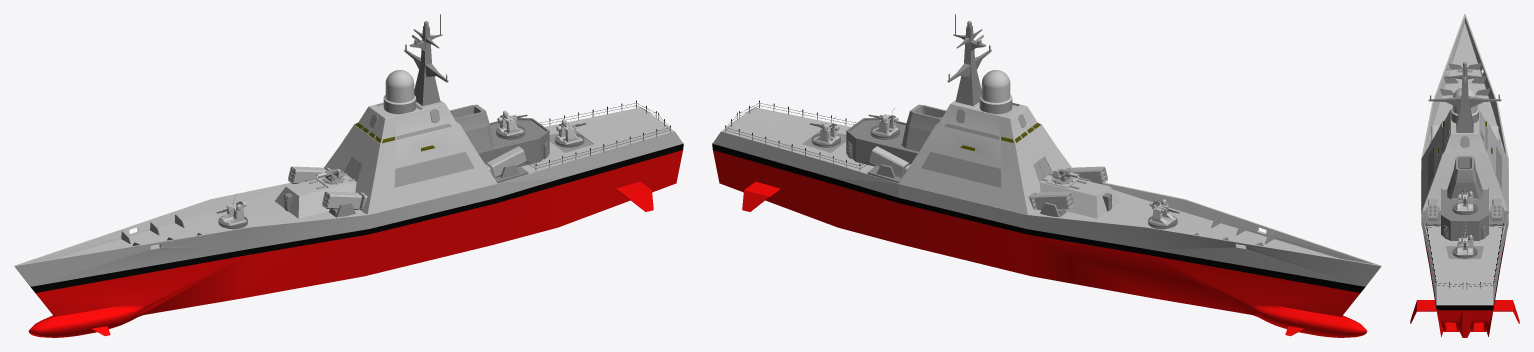
File: AlamoCorvette.fbx
The picture shows the model from 3 angles, left to right: view 1: azimuth 30°, elevation 25°; view 2: azimuth 150°, elevation 25°; view 3: azimuth 270°, elevation 25°; orthographic projection. The views are drawn at different scales.
Parts seen in each view (by area): view 1: pCube75; view 2: pCube75; view 3: pCube75.
Boxes of the visible parts, x1=… form: pCube75: x1=14, y1=14, x2=683, y2=337; pCube75: x1=712, y1=14, x2=1381, y2=337; pCube75: x1=1410, y1=14, x2=1519, y2=337.
Bounding box in the file's own units: 25.32 × 8.59 × 4.32.
